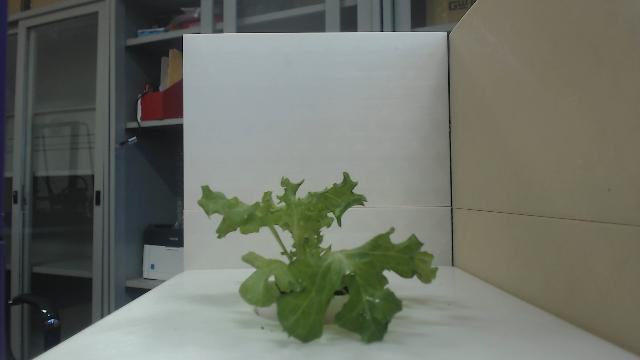Vegetative Stage: (196, 170, 440, 346)
